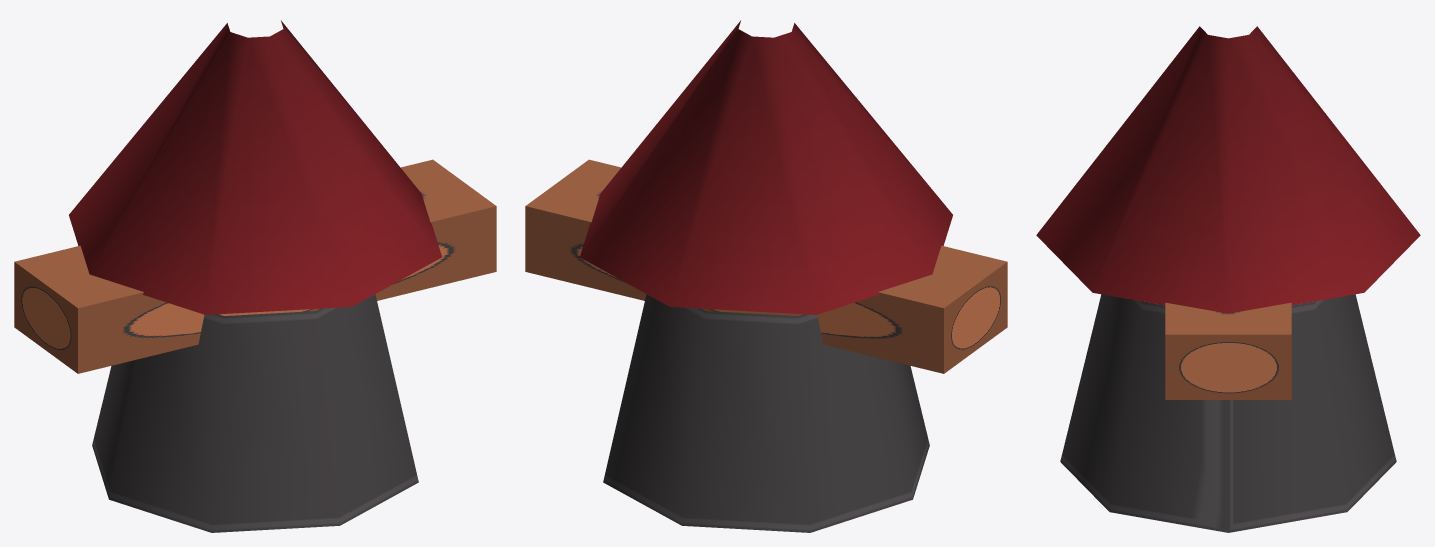
File: ITEM_UNDERCITY_VALVE_HANDLE.glb
3 views of the same model, side by side, from view 1: azimuth 30°, elevation 25°; view 2: azimuth 150°, elevation 25°; view 3: azimuth 270°, elevation 25° (orthographic).
Visible parts, largest first — view 1: ITEM_UNDERCITY_VALVE_HANDLE; view 2: ITEM_UNDERCITY_VALVE_HANDLE; view 3: ITEM_UNDERCITY_VALVE_HANDLE.
Boxes of the visible parts, bbox=[...] form: ITEM_UNDERCITY_VALVE_HANDLE: bbox=[14, 20, 496, 532]; ITEM_UNDERCITY_VALVE_HANDLE: bbox=[525, 20, 1007, 532]; ITEM_UNDERCITY_VALVE_HANDLE: bbox=[1036, 26, 1420, 532].
Bounding box in the file's own units: 0.38 × 0.38 × 0.304.
Materials: 1 (1 with a texture image).
